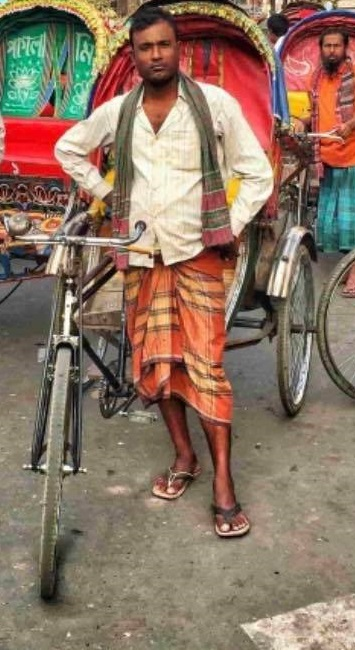Rickshaw: (66, 2, 317, 500), (0, 3, 113, 272), (271, 5, 353, 251)
